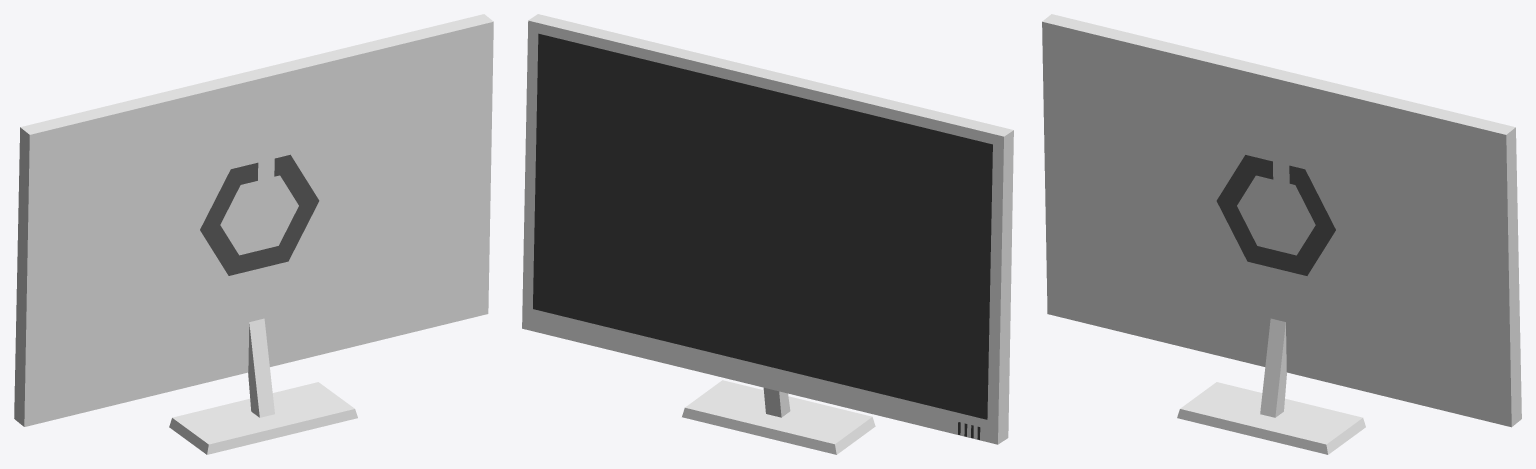
The picture shows the model from 3 angles, left to right: view 1: azimuth 30°, elevation 25°; view 2: azimuth 150°, elevation 25°; view 3: azimuth 330°, elevation 25°; orthographic projection. The views are drawn at different scales.
Visible parts, largest first — view 1: electronics_025; view 2: electronics_025; view 3: electronics_025.
Part boxes in pixels (left/top/right/bottom): electronics_025: left=14, top=14, right=493, bottom=454; electronics_025: left=522, top=14, right=1013, bottom=454; electronics_025: left=1042, top=14, right=1521, bottom=454.
Bounding box in the file's own units: 1.56 × 1.1 × 0.2205.
1 material, 1 textured.
